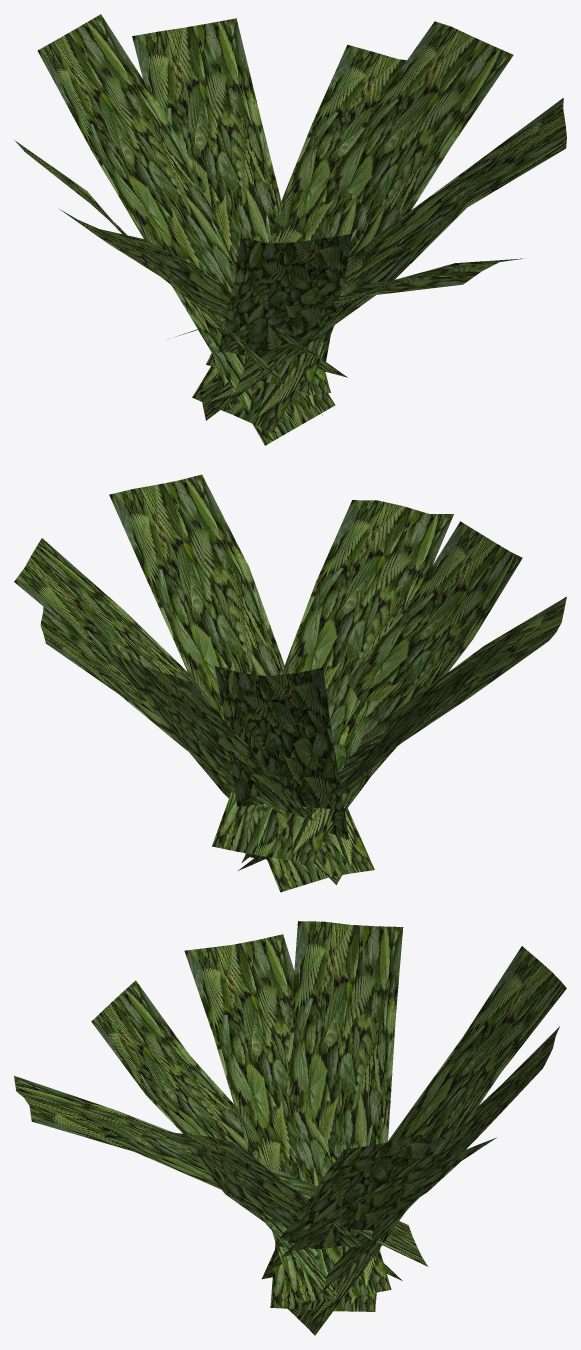
The model's file is ferns-v01.glb.
3 renders of one model, top to bottom at view 1: azimuth 30°, elevation 25°; view 2: azimuth 150°, elevation 25°; view 3: azimuth 270°, elevation 25°, orthographic. The views are drawn at different scales.
Parts seen in each view (by area): view 1: ferns; view 2: ferns; view 3: ferns.
Part boxes in pixels (box(x1,y1,x2,y2)): ferns: box(14, 14, 566, 445); ferns: box(14, 474, 566, 892); ferns: box(14, 921, 566, 1335).
Size of the model in its own units: 1.52 by 0.9628 by 1.57.
Materials: 1 (1 with a texture image).
